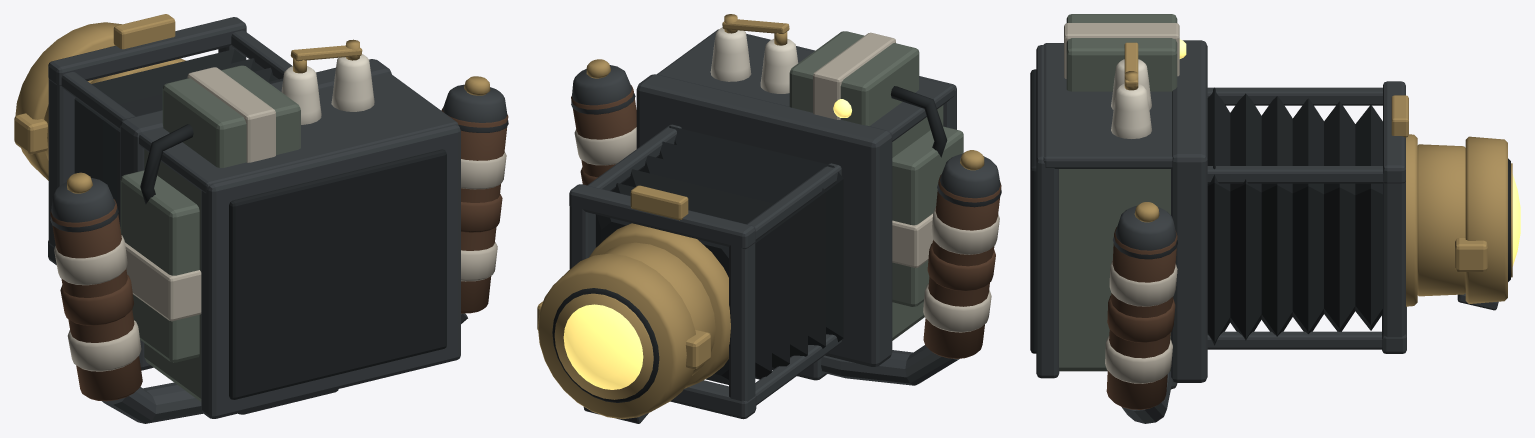
The model's file is flash_camera.glb.
3 renders of one model, left to right at view 1: azimuth 30°, elevation 25°; view 2: azimuth 150°, elevation 25°; view 3: azimuth 270°, elevation 25°, orthographic. The views are drawn at different scales.
Visible parts, largest first — view 1: FlashCamera_Forged_Iron, FlashCamera_Dark_Charcoal, FlashCamera_Slate_Olive, FlashCamera_Oatmeal_Linen, FlashCamera_Oxhide_Leather, FlashCamera_Aged_Brass, Accordion_Bellows, FlashCamera_Porcelain_Ivory; view 2: FlashCamera_Forged_Iron, FlashCamera_Aged_Brass, Accordion_Bellows, FlashCamera_Slate_Olive, FlashCamera_Oatmeal_Linen, FlashCamera_Oxhide_Leather, Lens_Glass_Element, FlashCamera_Porcelain_Ivory, FlashCamera_Dark_Charcoal; view 3: FlashCamera_Forged_Iron, Accordion_Bellows, FlashCamera_Slate_Olive, FlashCamera_Aged_Brass, FlashCamera_Oxhide_Leather, FlashCamera_Oatmeal_Linen, FlashCamera_Porcelain_Ivory, FlashCamera_Dark_Charcoal, Lens_Glass_Element.
Part boxes in pixels (<box>): FlashCamera_Forged_Iron: <box>48,17,508,423</box>; FlashCamera_Dark_Charcoal: <box>140,124,446,399</box>; FlashCamera_Slate_Olive: <box>120,65,300,401</box>; FlashCamera_Oatmeal_Linen: <box>54,67,506,371</box>; FlashCamera_Oxhide_Leather: <box>50,107,508,401</box>; FlashCamera_Aged_Brass: <box>14,14,490,193</box>; Accordion_Bellows: <box>74,49,283,226</box>; FlashCamera_Porcelain_Ivory: <box>281,54,374,124</box>; FlashCamera_Forged_Iron: <box>569,29,1001,423</box>; FlashCamera_Aged_Brass: <box>537,14,984,418</box>; Accordion_Bellows: <box>596,126,843,384</box>; FlashCamera_Slate_Olive: <box>789,31,963,340</box>; FlashCamera_Oatmeal_Linen: <box>574,32,999,332</box>; FlashCamera_Oxhide_Leather: <box>571,85,1001,358</box>; Lens_Glass_Element: <box>563,304,643,389</box>; FlashCamera_Porcelain_Ivory: <box>710,27,798,93</box>; FlashCamera_Dark_Charcoal: <box>552,86,947,402</box>; FlashCamera_Forged_Iron: <box>1036,40,1498,423</box>; Accordion_Bellows: <box>1207,87,1382,345</box>; FlashCamera_Slate_Olive: <box>1059,14,1177,371</box>; FlashCamera_Aged_Brass: <box>1124,42,1512,306</box>; FlashCamera_Oxhide_Leather: <box>1106,227,1177,409</box>; FlashCamera_Oatmeal_Linen: <box>1064,23,1179,383</box>; FlashCamera_Porcelain_Ivory: <box>1111,59,1151,138</box>; FlashCamera_Dark_Charcoal: <box>1030,69,1510,353</box>; Lens_Glass_Element: <box>1512,174,1520,266</box>.
Bounding box in the file's own units: 0.5075 × 0.3773 × 0.509.
